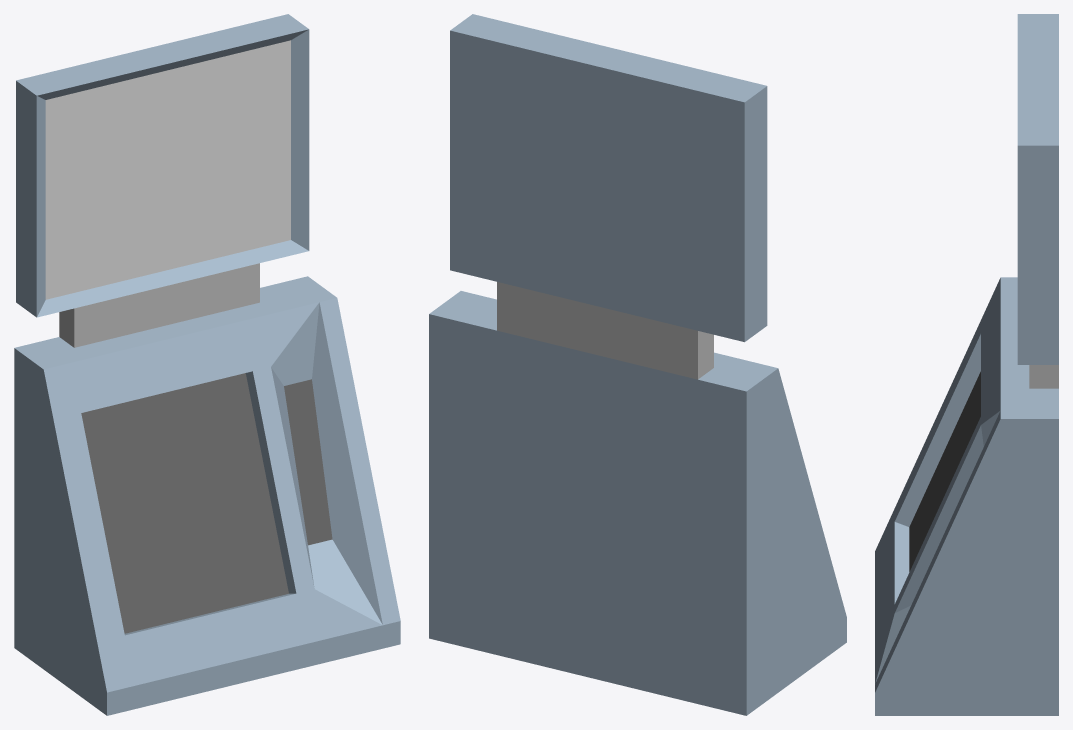
The model's file is Switch_Unit_2.fbx.
The picture shows the model from 3 angles, left to right: view 1: azimuth 30°, elevation 25°; view 2: azimuth 150°, elevation 25°; view 3: azimuth 270°, elevation 25°; orthographic projection. The views are drawn at different scales.
Parts seen in each view (by area): view 1: Switch_Body; view 2: Switch_Body; view 3: Switch_Body.
Part boxes in pixels (x1,y1,x2,y2): Switch_Body: (14,14,400,715); Switch_Body: (429,14,846,715); Switch_Body: (875,14,1058,715).
Size of the model in its own units: 2.13 by 3.93 by 1.17.
